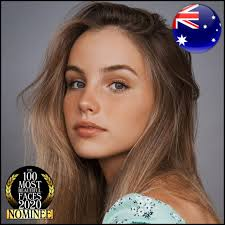no_mask: (57, 8, 173, 179)
